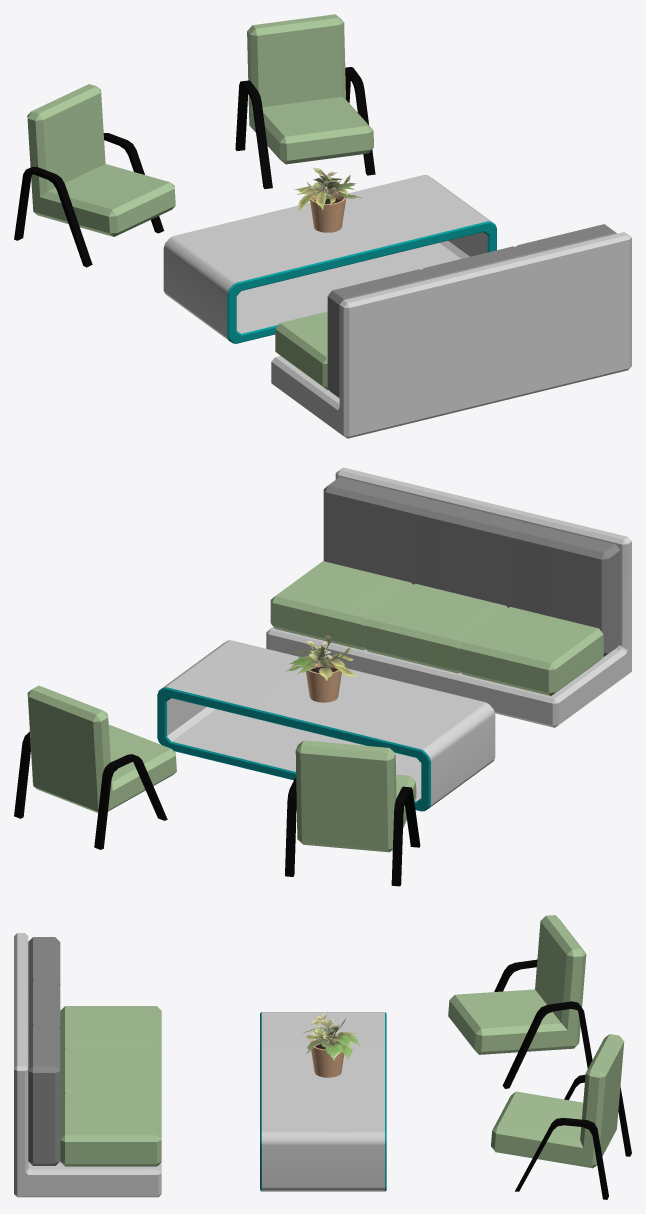
Rendered from sofa_set.fbx.
The picture shows the model from 3 angles, top to bottom: view 1: azimuth 30°, elevation 25°; view 2: azimuth 150°, elevation 25°; view 3: azimuth 270°, elevation 25°; orthographic projection. The views are drawn at different scales.
Visible parts, largest first — view 1: sofa, sofa_table, single_sofa1, single_sofa, plant_2; view 2: sofa, sofa_table, single_sofa1, single_sofa, plant_2; view 3: sofa, sofa_table, single_sofa, single_sofa1, plant_2.
Boxes of the visible parts, left/top/right/bottom form: sofa: left=271, top=224, right=631, bottom=438; sofa_table: left=163, top=175, right=496, bottom=343; single_sofa1: left=235, top=14, right=375, bottom=188; single_sofa: left=14, top=84, right=175, bottom=267; plant_2: left=294, top=168, right=362, bottom=232; sofa: left=266, top=467, right=631, bottom=727; sofa_table: left=157, top=640, right=495, bottom=811; single_sofa1: left=14, top=685, right=176, bottom=849; single_sofa: left=285, top=740, right=420, bottom=886; plant_2: left=285, top=635, right=358, bottom=702; sofa: left=14, top=933, right=161, bottom=1197; sofa_table: left=260, top=1012, right=386, bottom=1191; single_sofa: left=448, top=915, right=592, bottom=1088; single_sofa1: left=491, top=1034, right=631, bottom=1199; plant_2: left=302, top=1011, right=360, bottom=1077.
Bounding box in the file's own units: 3.24 × 1.18 × 5.
